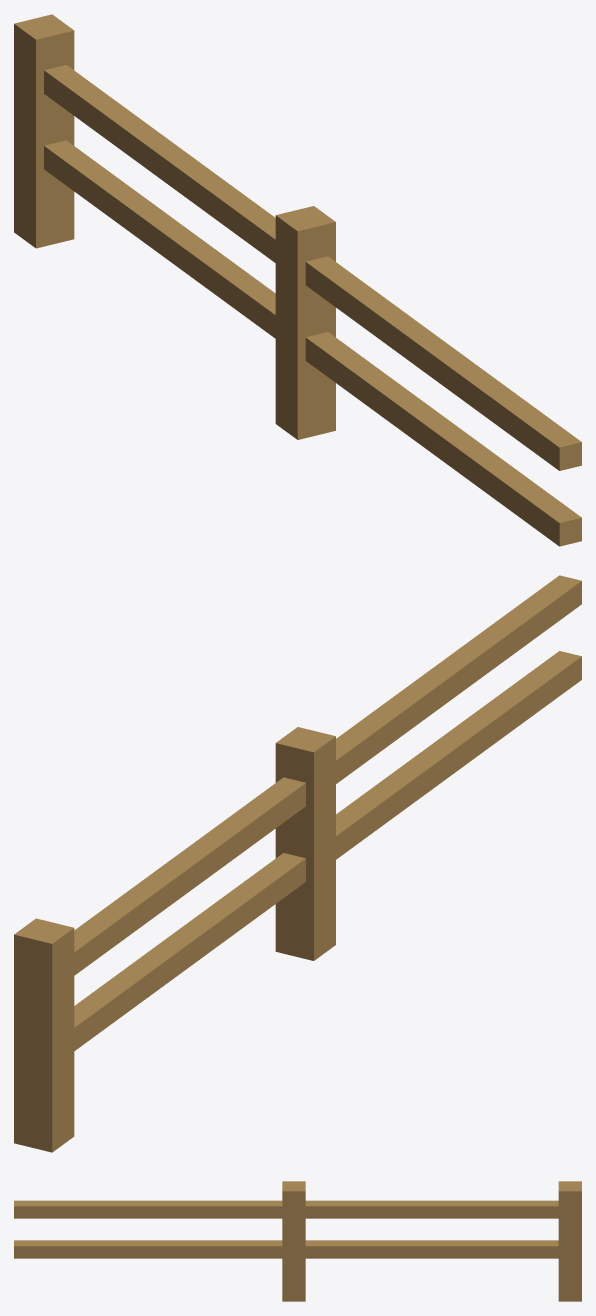
File: левый.fbx
3 renders of one model, top to bottom at view 1: azimuth 30°, elevation 25°; view 2: azimuth 150°, elevation 25°; view 3: azimuth 270°, elevation 25°, orthographic. The views are drawn at different scales.
Parts seen in each view (by area): view 1: Cube.005, Cube.004, Cube, Cube.001, Cube.002, Cube.003; view 2: Cube.001, Cube, Cube.005, Cube.004, Cube.002, Cube.003; view 3: Cube.005, Cube.004, Cube.002, Cube.003, Cube, Cube.001.
Boxes of the visible parts, bbox=[...] form: Cube.005: bbox=[305, 332, 581, 546]; Cube.004: bbox=[305, 256, 581, 470]; Cube: bbox=[275, 206, 335, 439]; Cube.001: bbox=[14, 14, 74, 248]; Cube.002: bbox=[44, 140, 275, 338]; Cube.003: bbox=[44, 65, 275, 262]; Cube.001: bbox=[14, 918, 74, 1152]; Cube: bbox=[275, 727, 335, 960]; Cube.005: bbox=[336, 651, 581, 859]; Cube.004: bbox=[336, 575, 581, 783]; Cube.002: bbox=[74, 853, 305, 1050]; Cube.003: bbox=[74, 777, 305, 975]; Cube.005: bbox=[14, 1240, 282, 1258]; Cube.004: bbox=[14, 1200, 282, 1218]; Cube.002: bbox=[305, 1240, 558, 1258]; Cube.003: bbox=[305, 1200, 558, 1218]; Cube: bbox=[282, 1181, 305, 1301]; Cube.001: bbox=[558, 1181, 581, 1301].
Bounding box in the file's own units: 36.16 × 188 × 880.
